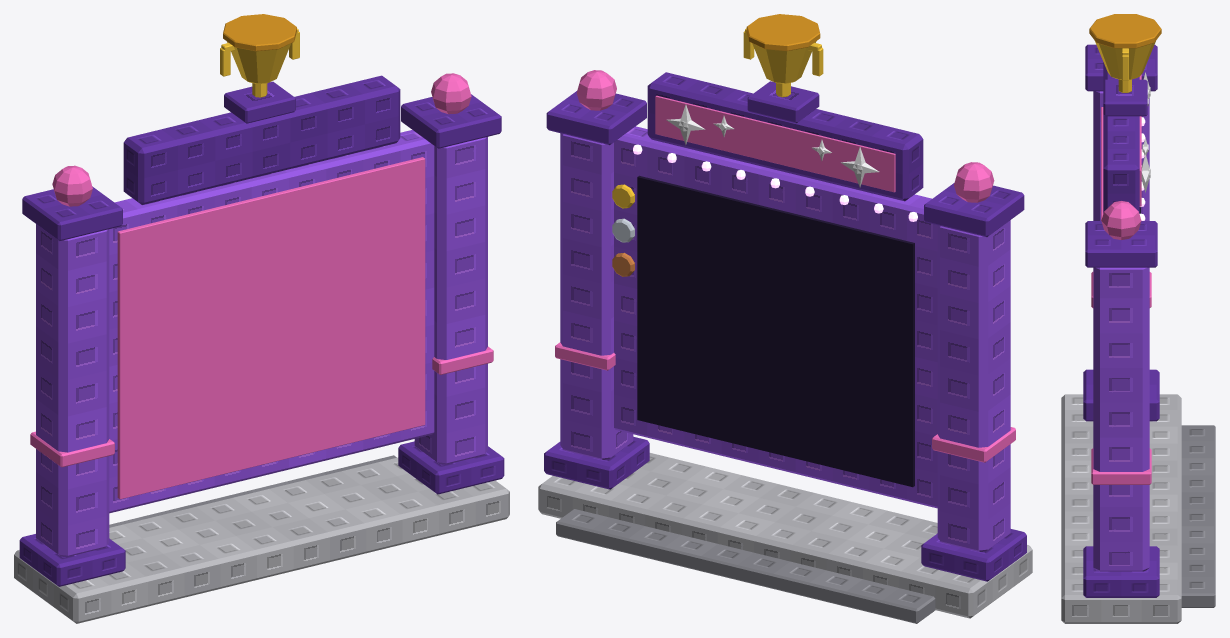
The model's file is LeaderboardPurple.glb.
3 renders of one model, left to right at view 1: azimuth 30°, elevation 25°; view 2: azimuth 150°, elevation 25°; view 3: azimuth 270°, elevation 25°, orthographic. The views are drawn at different scales.
Visible parts, largest first — view 1: LeaderboardPurple; view 2: LeaderboardPurple, LeaderboardPurple_Screen, LeaderboardPurple_Glow; view 3: LeaderboardPurple.
Part boxes in pixels (x1,y1,x2,y2): LeaderboardPurple: [14, 14, 509, 623]; LeaderboardPurple: [538, 14, 1032, 623]; LeaderboardPurple_Screen: [637, 175, 914, 487]; LeaderboardPurple_Glow: [633, 144, 917, 221]; LeaderboardPurple: [1061, 14, 1215, 623].
Bounding box in the file's own units: 12.3 × 13.62 × 3.85.
Materials: 2 (1 with a texture image).
